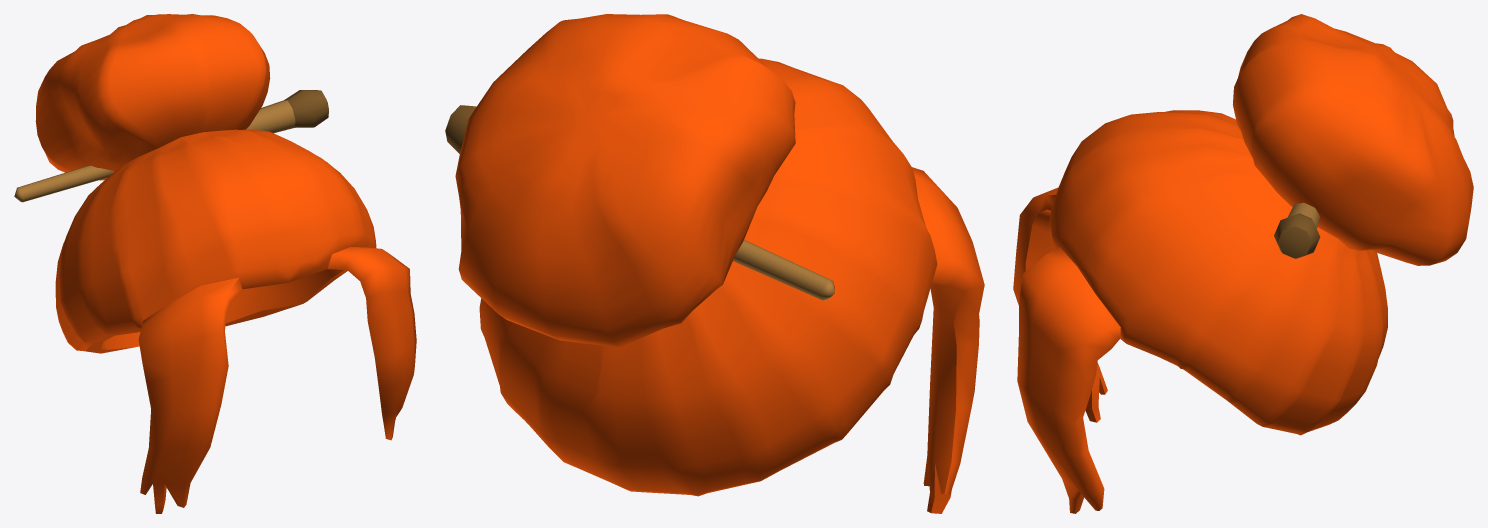
Rendered from Hair_02_06.fbx.
3 renders of one model, left to right at view 1: azimuth 30°, elevation 25°; view 2: azimuth 150°, elevation 25°; view 3: azimuth 270°, elevation 25°, orthographic. The views are drawn at different scales.
Parts seen in each view (by area): view 1: Hair_02_06; view 2: Hair_02_06; view 3: Hair_02_06.
Part boxes in pixels (left/top/right/bottom): Hair_02_06: left=14, top=14, right=416, bottom=513; Hair_02_06: left=445, top=14, right=984, bottom=513; Hair_02_06: left=1013, top=14, right=1473, bottom=513.
Bounding box in the file's own units: 42.18 × 53.9 × 50.94.
